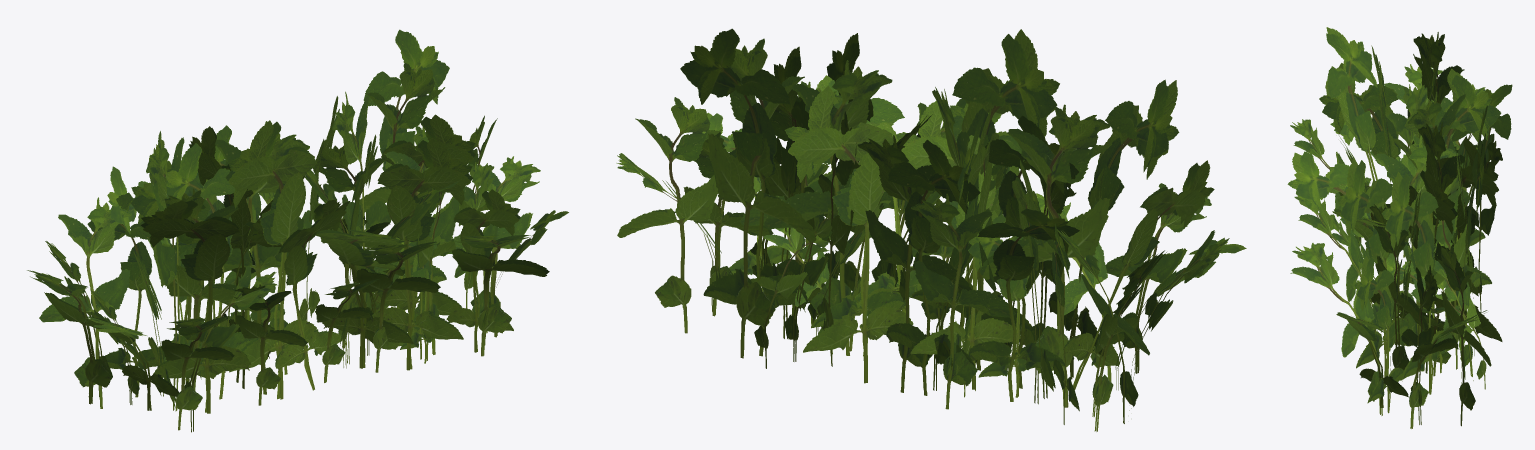
File: NaturePlant05_6.FBX
3 views of the same model, side by side, from view 1: azimuth 30°, elevation 25°; view 2: azimuth 150°, elevation 25°; view 3: azimuth 270°, elevation 25° (orthographic). The views are drawn at different scales.
Parts seen in each view (by area): view 1: NaturePlant05_6; view 2: NaturePlant05_6; view 3: NaturePlant05_6.
Boxes of the visible parts, x1=… form: NaturePlant05_6: x1=27, y1=29, x2=568, y2=432; NaturePlant05_6: x1=616, y1=28, x2=1246, y2=431; NaturePlant05_6: x1=1287, y1=27, x2=1512, y2=428.
Size of what is drawn, in the model's own units: 2.19 by 1.19 by 0.9082.
